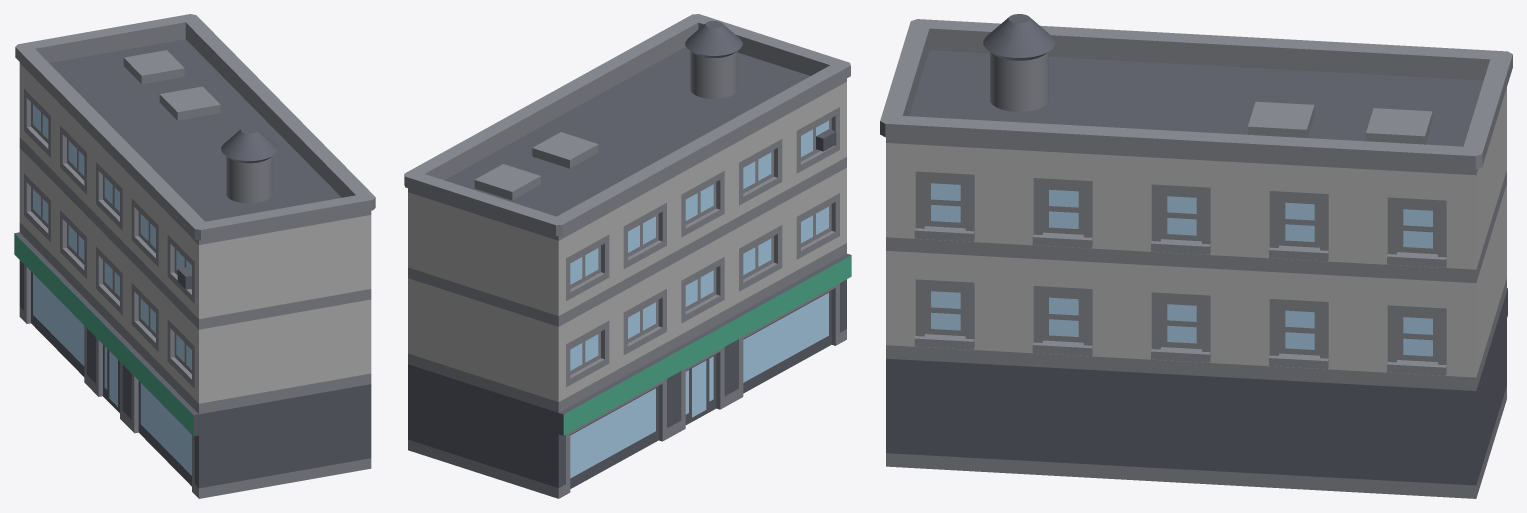
Rendered from large_buildingF.005.obj.
The picture shows the model from 3 angles, left to right: view 1: azimuth 30°, elevation 25°; view 2: azimuth 150°, elevation 25°; view 3: azimuth 270°, elevation 25°; orthographic projection. The views are drawn at different scales.
Visible parts, largest first — view 1: large_buildingF.003; view 2: large_buildingF.003; view 3: large_buildingF.003.
Boxes of the visible parts, x1,y1,x2,y2 form: large_buildingF.003: (14,14,375,498); large_buildingF.003: (404,14,851,498); large_buildingF.003: (880,14,1512,498).
Size of the model in its own units: 16.13 by 22.09 by 31.31.
